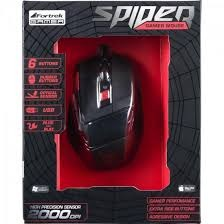mouse: (66, 48, 144, 174)
